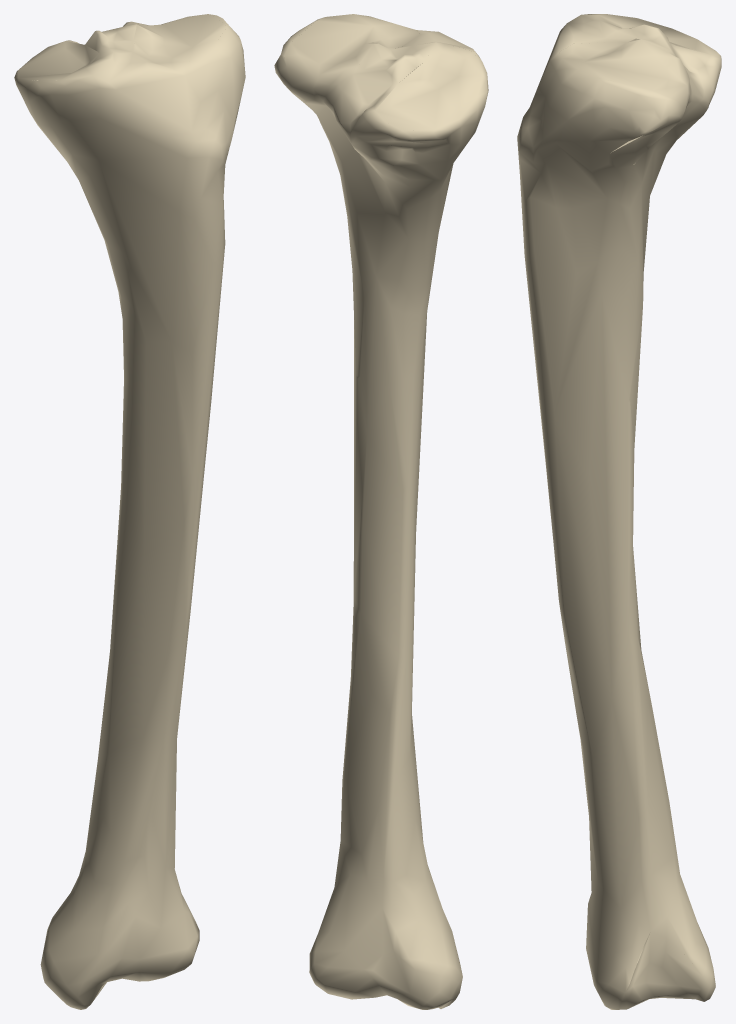
The model's file is esqueleto-tibia-l.glb.
3 renders of one model, left to right at view 1: azimuth 30°, elevation 25°; view 2: azimuth 150°, elevation 25°; view 3: azimuth 270°, elevation 25°, orthographic. The views are drawn at different scales.
Visible parts, largest first — view 1: Tibia.l; view 2: Tibia.l; view 3: Tibia.l.
Part boxes in pixels (box(x1,y1,x2,y2)): Tibia.l: box(14, 14, 245, 1009); Tibia.l: box(274, 14, 488, 1009); Tibia.l: box(517, 14, 721, 1009).
Size of the model in its own units: 0.0784 by 0.358 by 0.0679.
